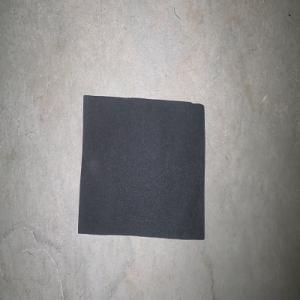PaintChip: (77, 94, 205, 239)
